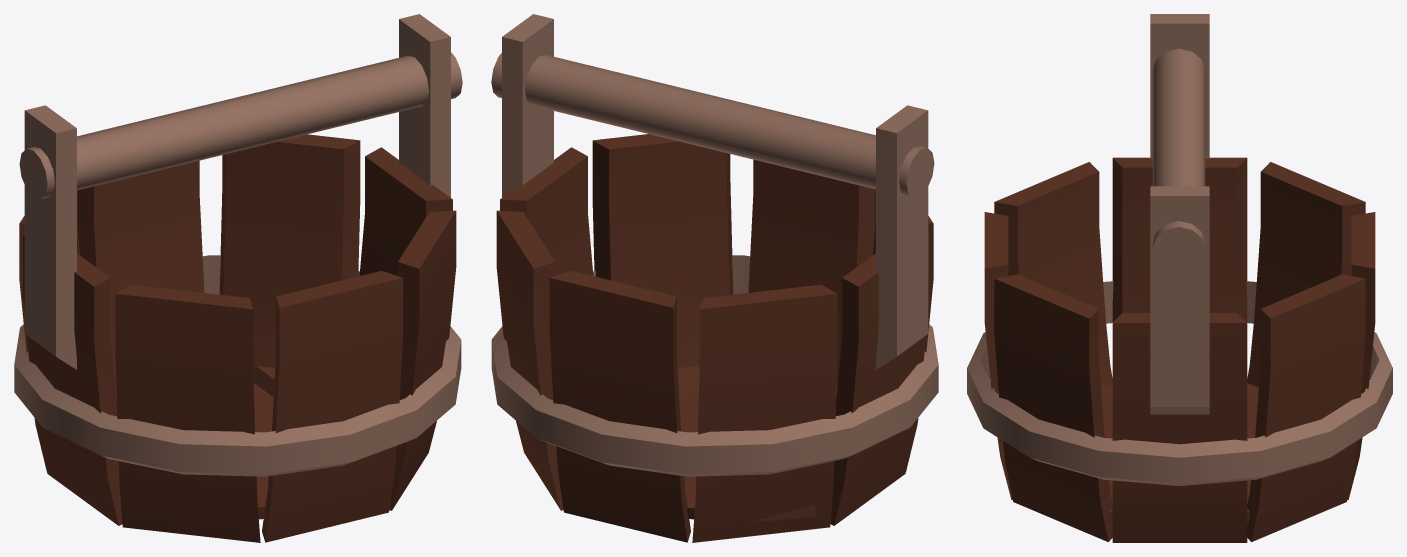
File: cubeta.glb
3 renders of one model, left to right at view 1: azimuth 30°, elevation 25°; view 2: azimuth 150°, elevation 25°; view 3: azimuth 270°, elevation 25°, orthographic. The views are drawn at different scales.
Visible parts, largest first — view 1: Prop_Bucket; view 2: Prop_Bucket; view 3: Prop_Bucket.
Boxes of the visible parts, x1,y1,x2,y2 form: Prop_Bucket: (14, 14, 462, 542); Prop_Bucket: (491, 14, 938, 542); Prop_Bucket: (967, 14, 1392, 542).
Bounding box in the file's own units: 0.7596 × 0.6795 × 0.7147.
1 material, 1 textured.
